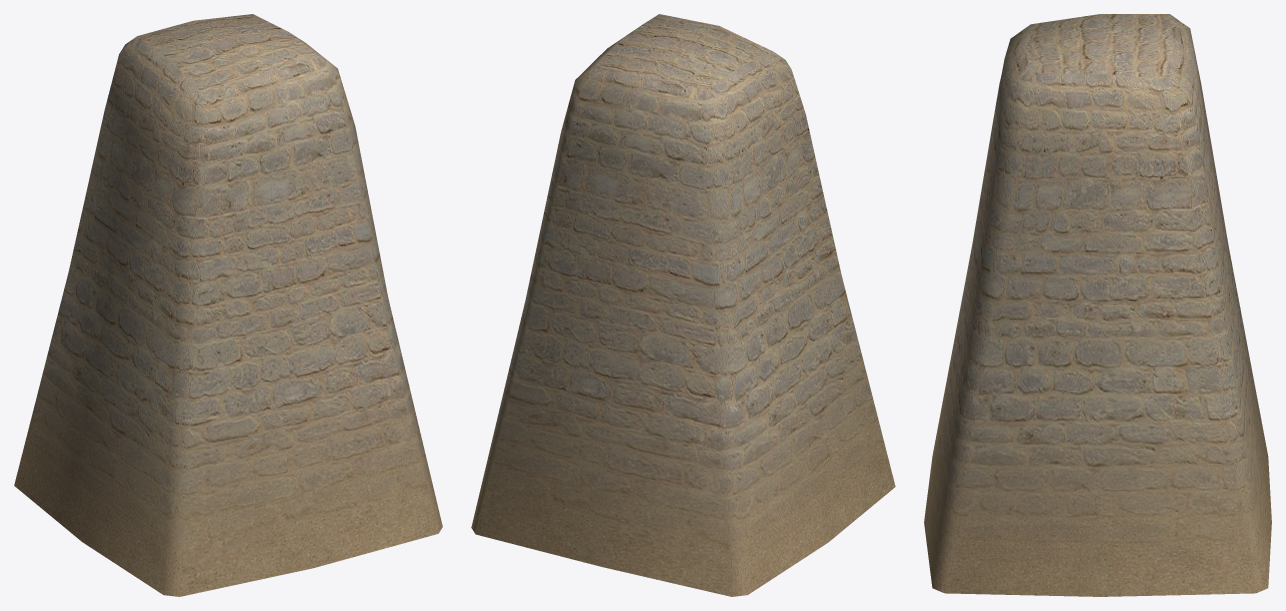
The model's file is wall_stone_end.fbx.
The picture shows the model from 3 angles, left to right: view 1: azimuth 30°, elevation 25°; view 2: azimuth 150°, elevation 25°; view 3: azimuth 270°, elevation 25°; orthographic projection. The views are drawn at different scales.
Parts seen in each view (by area): view 1: wall_stone_end; view 2: wall_stone_end; view 3: wall_stone_end.
Part boxes in pixels (x1=…): wall_stone_end: x1=14, y1=14, x2=442, y2=596; wall_stone_end: x1=471, y1=14, x2=895, y2=596; wall_stone_end: x1=924, y1=14, x2=1271, y2=596.
Bounding box in the file's own units: 2.02 × 3.08 × 2.
